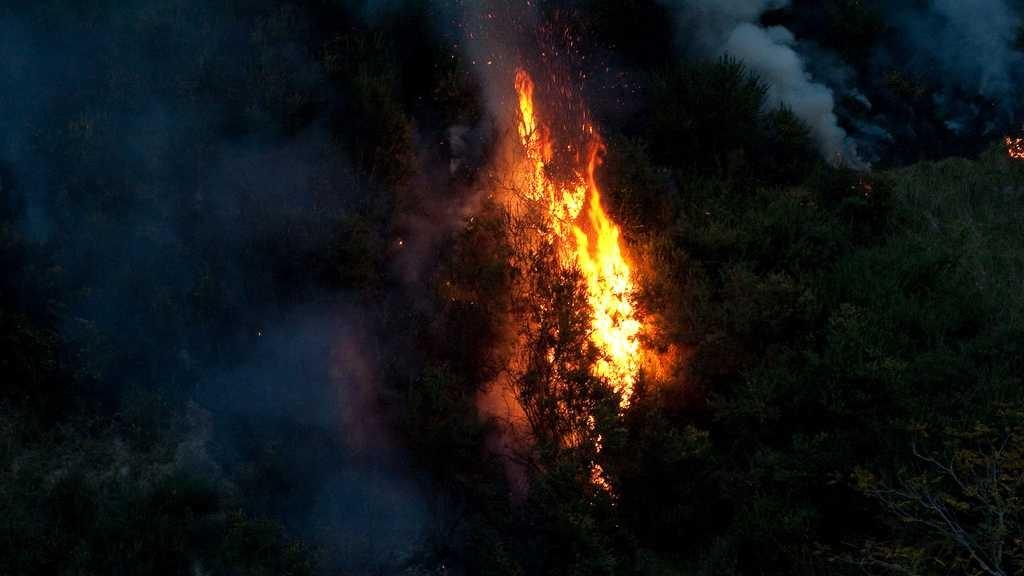fire: (591, 251, 637, 357)
smoke: (110, 136, 333, 350)
